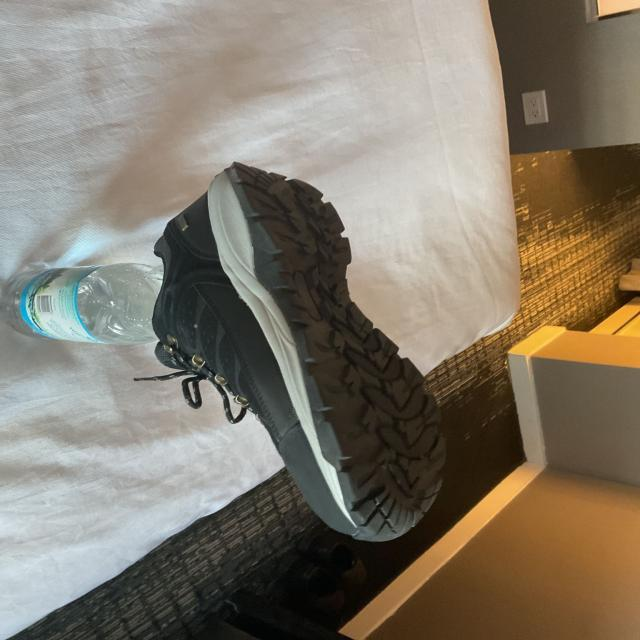shoes: (150, 160, 450, 546)
